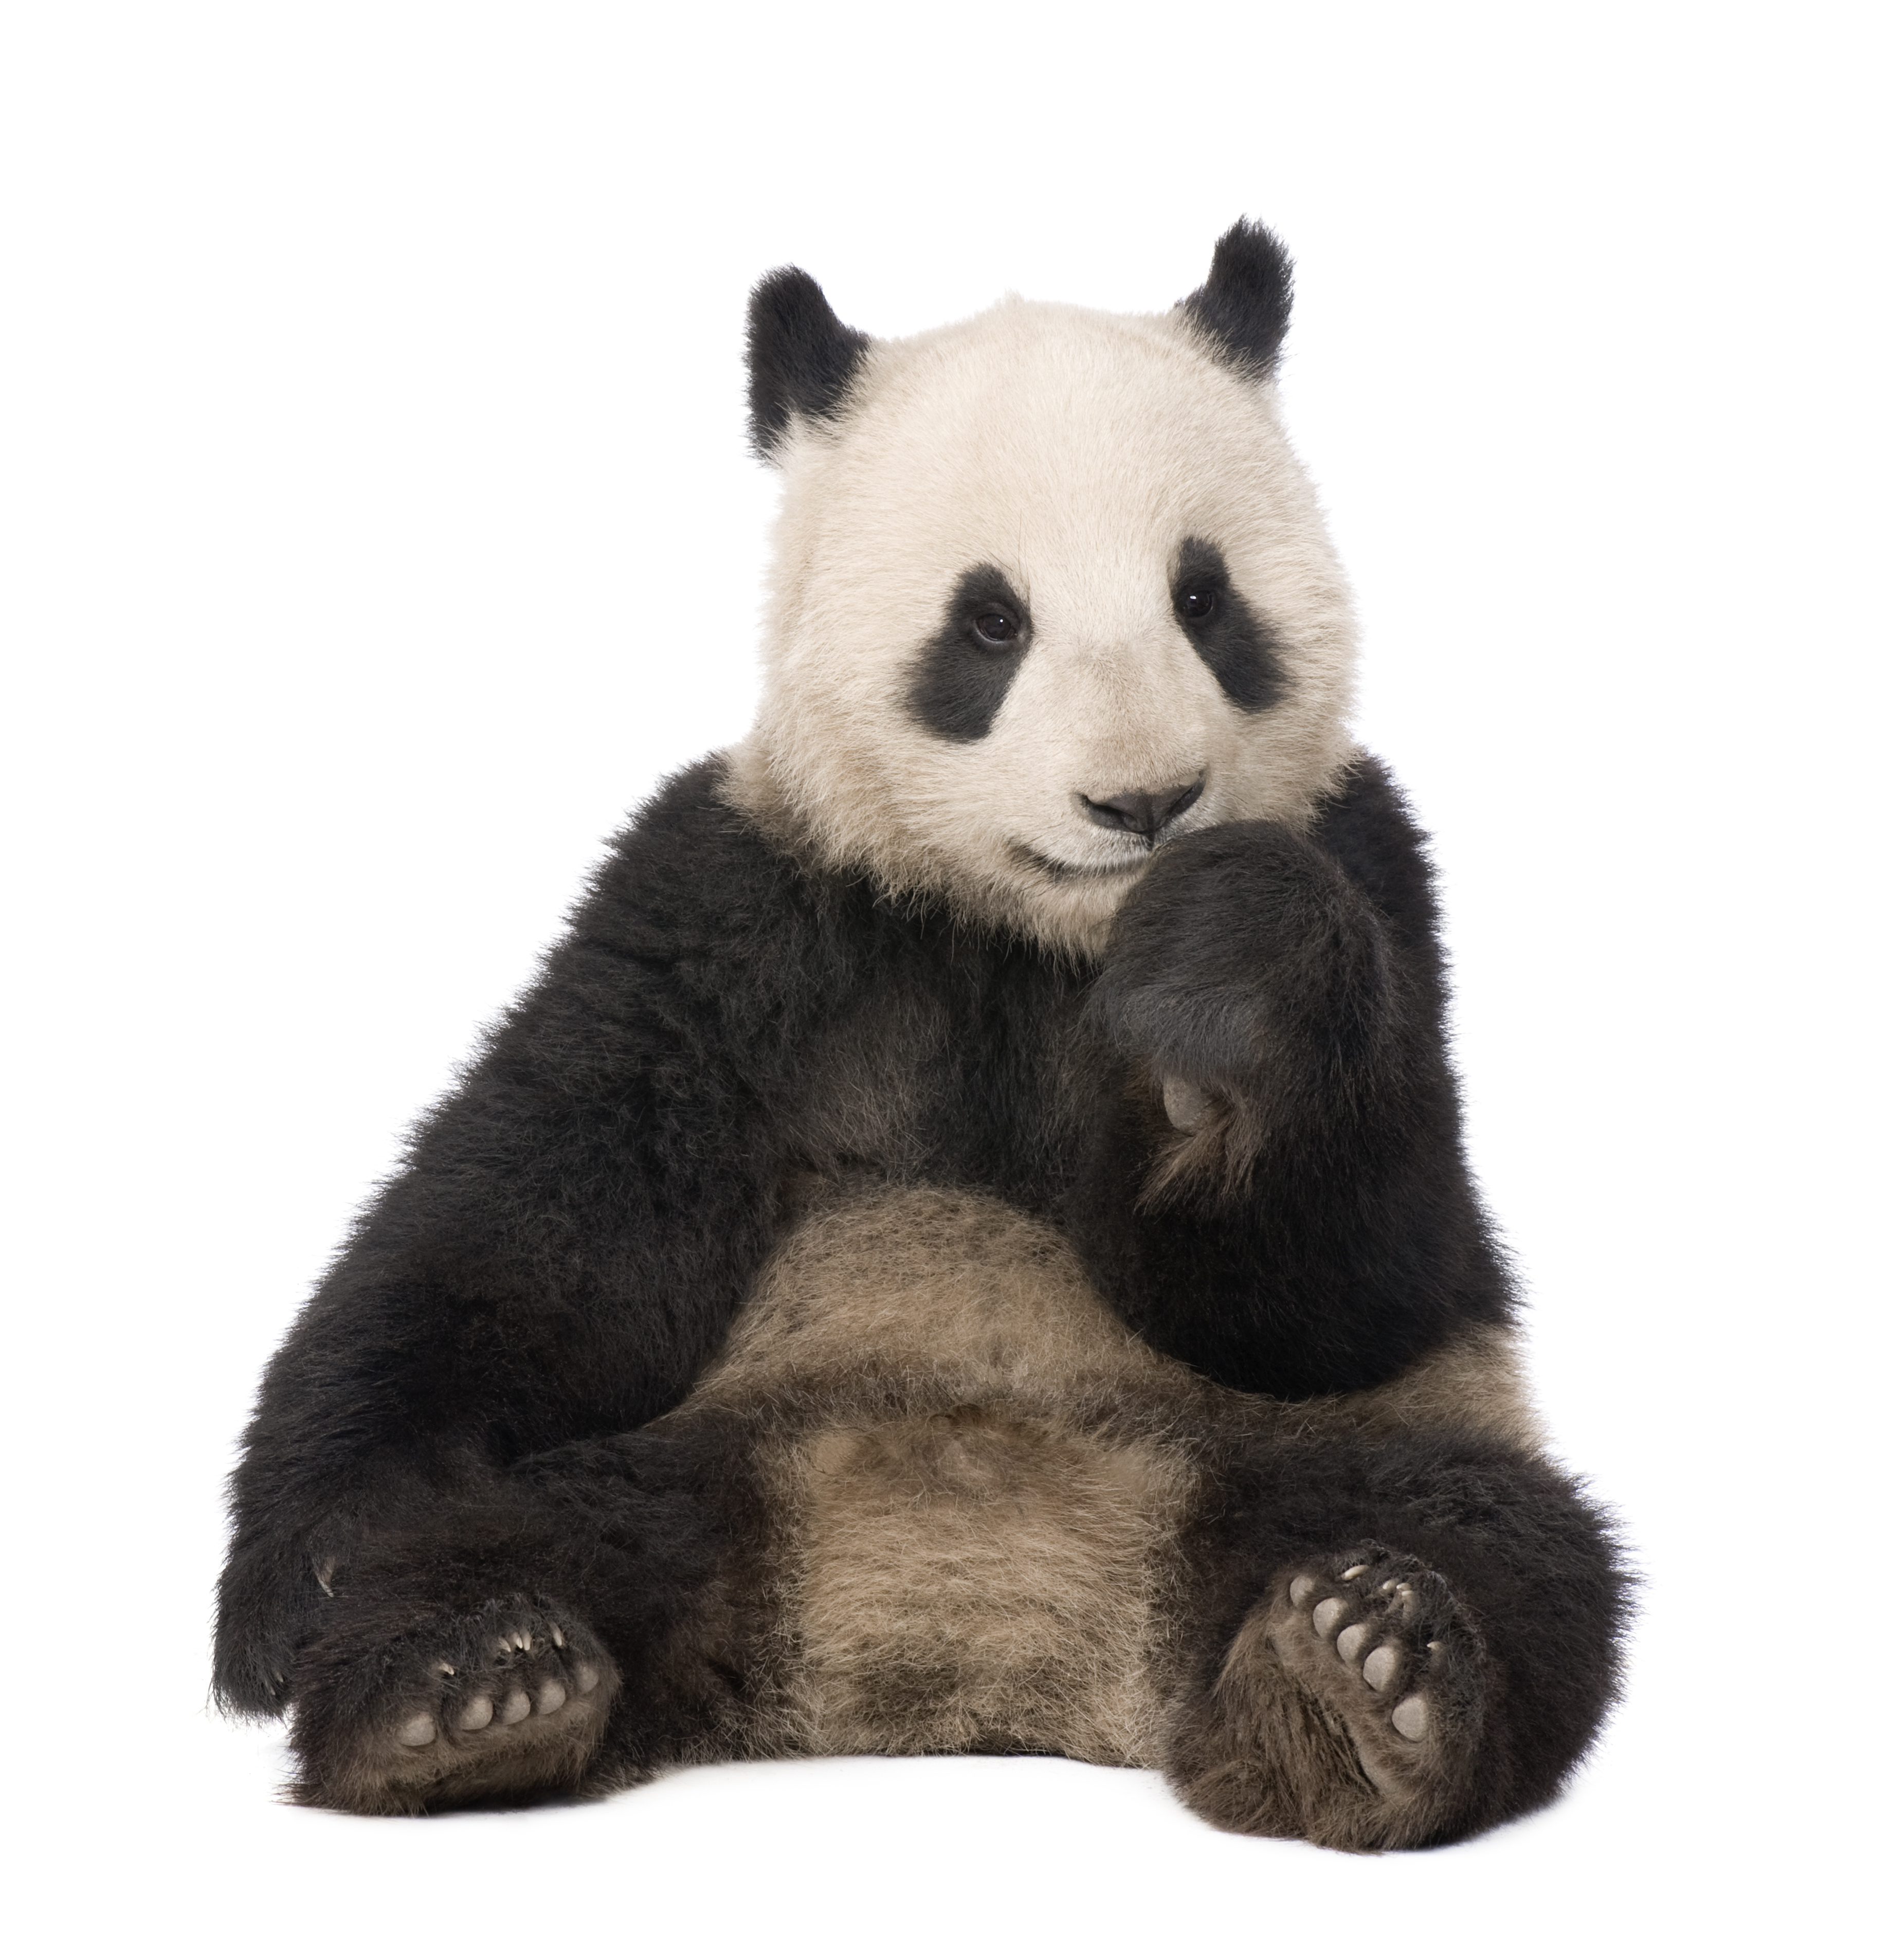panda: (326, 166, 1639, 1806)
